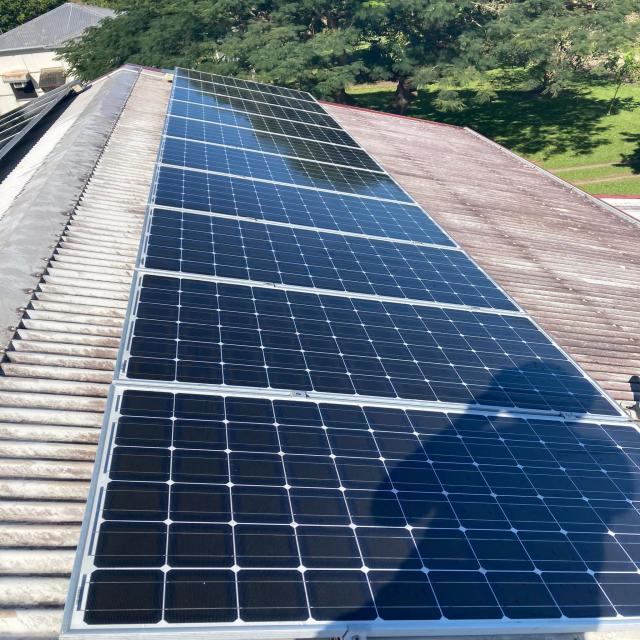clean-solar-panel: (305, 570, 377, 620)
